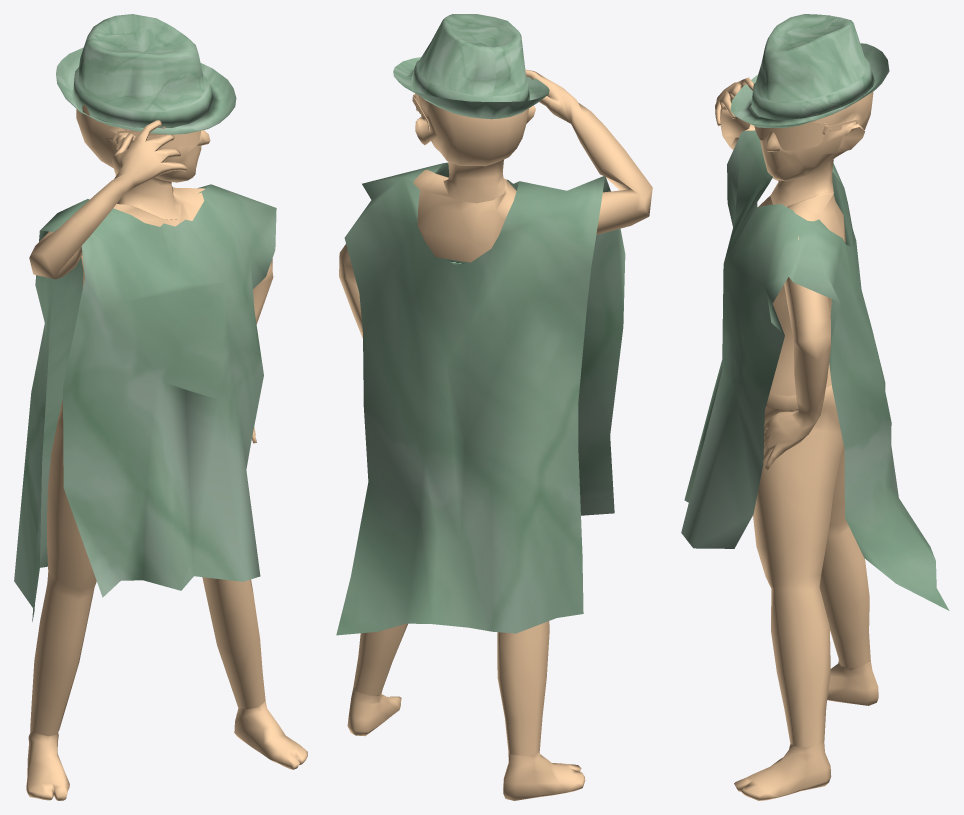
3 renders of one model, left to right at view 1: azimuth 30°, elevation 25°; view 2: azimuth 150°, elevation 25°; view 3: azimuth 270°, elevation 25°, orthographic. The views are drawn at different scales.
Visible parts, largest first — view 1: Plane.022, M_Head_BaseMesh.011, Plane.021; view 2: Plane.022, M_Head_BaseMesh.011, Plane.021; view 3: M_Head_BaseMesh.011, Plane.022, Plane.021.
Part boxes in pixels (x1,y1,x2,y2): Plane.022: (14, 184, 276, 621); M_Head_BaseMesh.011: (26, 104, 307, 800); Plane.021: (56, 14, 236, 134); Plane.022: (336, 162, 625, 635); M_Head_BaseMesh.011: (339, 69, 652, 800); Plane.021: (393, 14, 549, 119); M_Head_BaseMesh.011: (715, 77, 878, 800); Plane.022: (681, 130, 949, 610); Plane.021: (730, 14, 889, 127).
Size of the model in its own units: 2.24 by 5.64 by 1.93.
2 materials, 1 textured.
